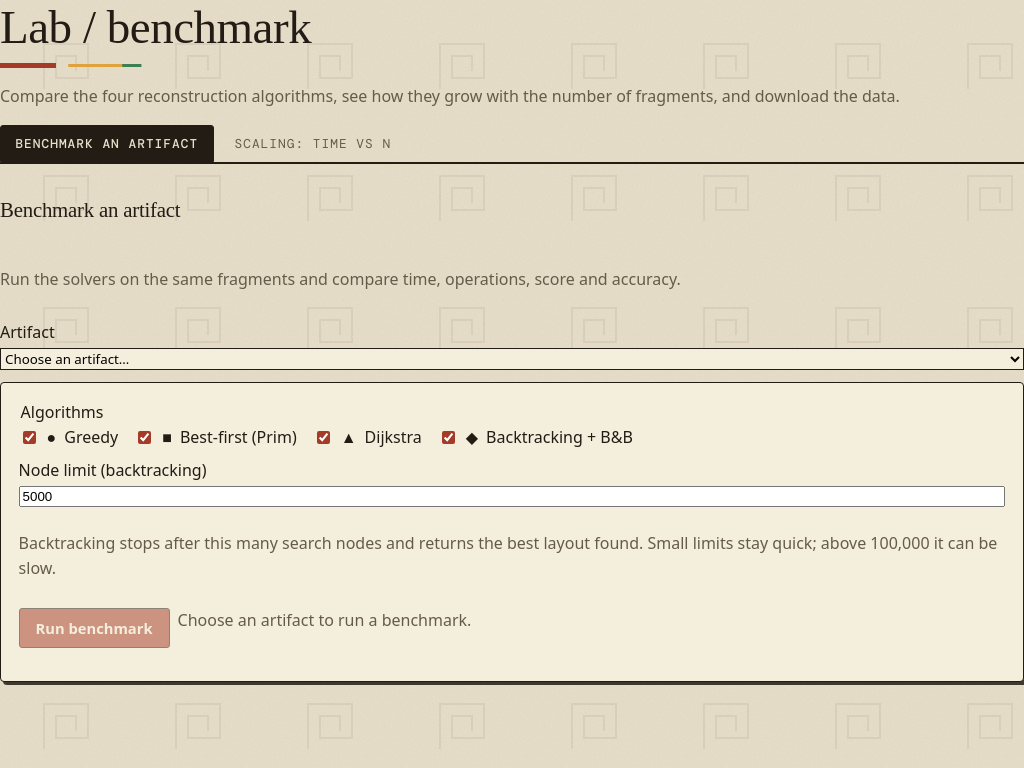
LabPage: benchmark › shows a 422 as a field message on the node limit
Select "Mughal tile panel (16 fragments)" in the dropdown labelled "Artifact" at (512, 359), box [0,348,1023,370]
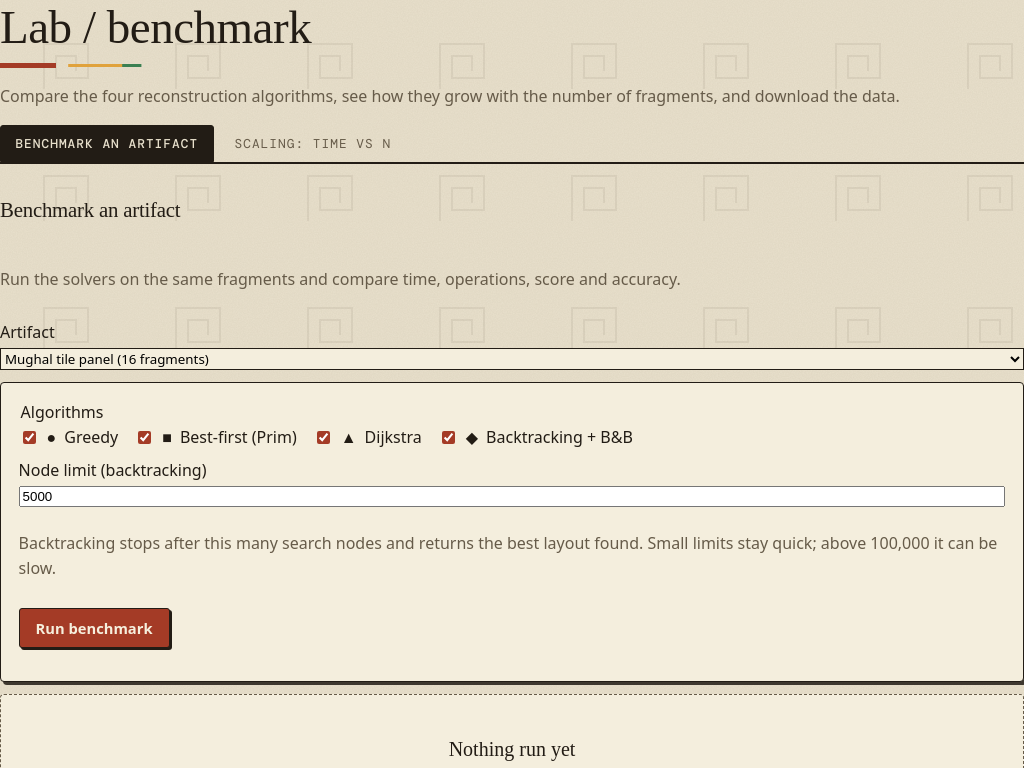
Click the button "Run benchmark".
click(94, 628)  # box [19,608,170,648]
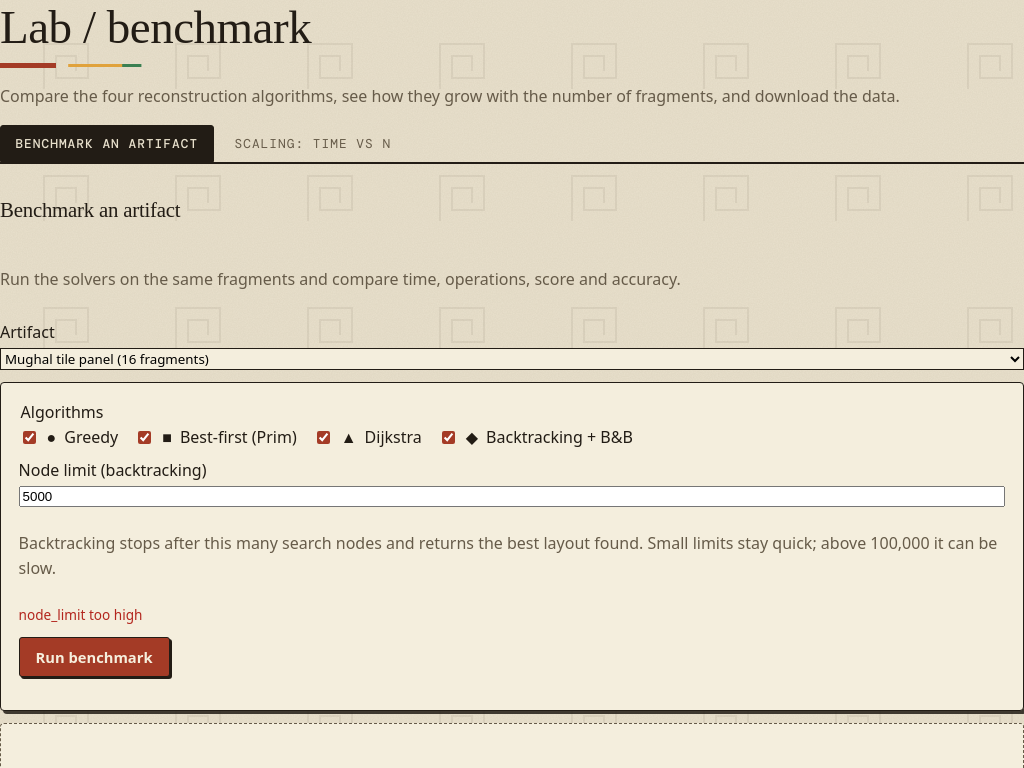
Check: the text "node_limit too high" is shown, box [19,605,142,624]
